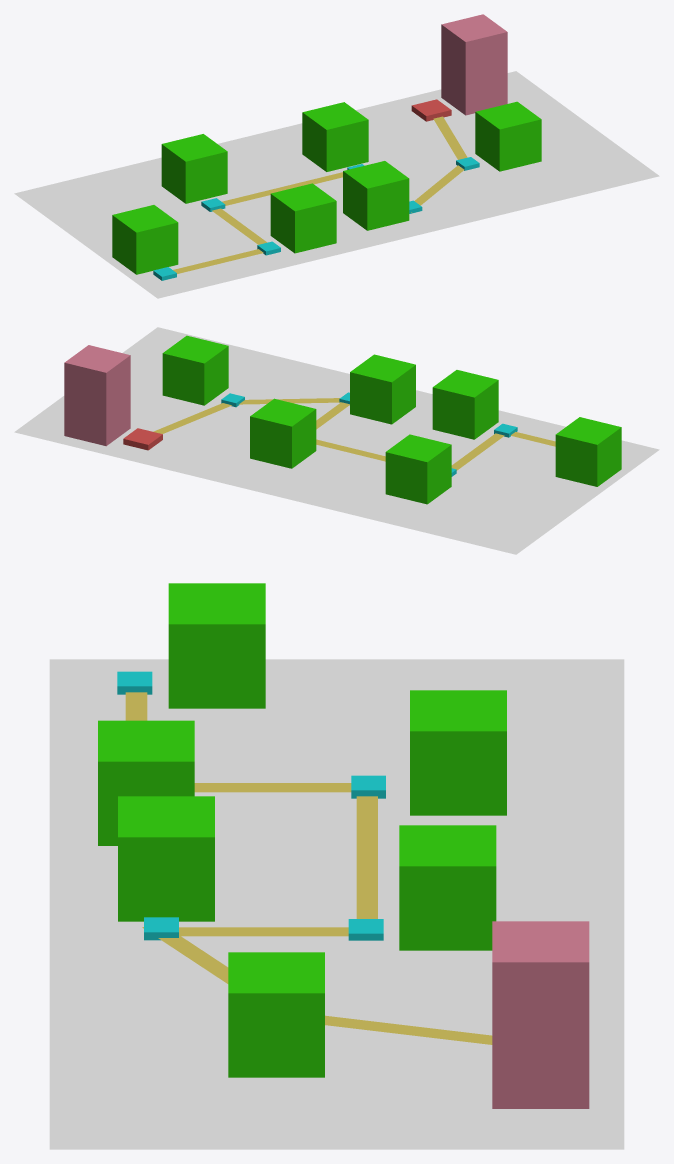
Rendered from StageSelect.fbx.
3 renders of one model, top to bottom at view 1: azimuth 30°, elevation 25°; view 2: azimuth 150°, elevation 25°; view 3: azimuth 270°, elevation 25°, orthographic. The views are drawn at different scales.
Parts seen in each view (by area): view 1: Plane, Cube.011, Cube.007, Cube.009, Cube.010, Cube.013, Cube.008, Cube.006, Plane.003, Cube.005, Plane.001, Plane.006 (+2 smaller); view 2: Plane, Cube.011, Cube.013, Cube.007, Cube.006, Cube.009, Cube.008, Cube.010, Cube.005, Plane.006, Plane.002, Plane.005 (+1 smaller); view 3: Plane, Cube.011, Cube.006, Cube.009, Cube.008, Cube.013, Cube.010, Cube.007, Plane.003, Plane.006, Plane.004, Plane.002 (+2 smaller).
Boxes of the visible parts, x1,y1,x2,y2 form: Plane: (14, 71, 659, 298); Cube.011: (441, 14, 507, 115); Cube.007: (270, 183, 336, 253); Cube.009: (302, 102, 368, 171); Cube.010: (343, 161, 409, 230); Cube.013: (475, 101, 541, 171); Cube.008: (161, 134, 227, 203); Cube.006: (112, 205, 178, 274); Plane.003: (222, 172, 342, 205); Cube.005: (411, 99, 451, 121); Plane.001: (173, 249, 263, 273); Plane.006: (433, 116, 467, 159); Plane: (14, 327, 659, 554); Cube.011: (64, 345, 130, 446); Cube.013: (162, 335, 228, 405); Cube.007: (432, 370, 498, 439); Cube.006: (555, 417, 621, 486); Cube.009: (250, 398, 316, 468); Cube.008: (385, 434, 451, 504); Cube.010: (350, 354, 415, 424); Cube.005: (123, 428, 162, 450); Plane.006: (153, 403, 231, 433); Plane.002: (451, 433, 504, 470); Plane.005: (239, 398, 340, 404); Plane: (49, 659, 624, 1149); Cube.011: (492, 921, 589, 1108); Cube.006: (168, 583, 265, 708); Cube.009: (399, 825, 496, 950); Cube.008: (410, 690, 506, 815); Cube.013: (228, 952, 324, 1077); Cube.010: (118, 796, 214, 921); Cube.007: (98, 720, 194, 845); Plane.003: (356, 796, 377, 918); Plane.006: (325, 1015, 492, 1044); Plane.004: (179, 927, 348, 936); Plane.002: (194, 783, 351, 792).
Bounding box in the file's own units: 2395 × 344 × 1187.
